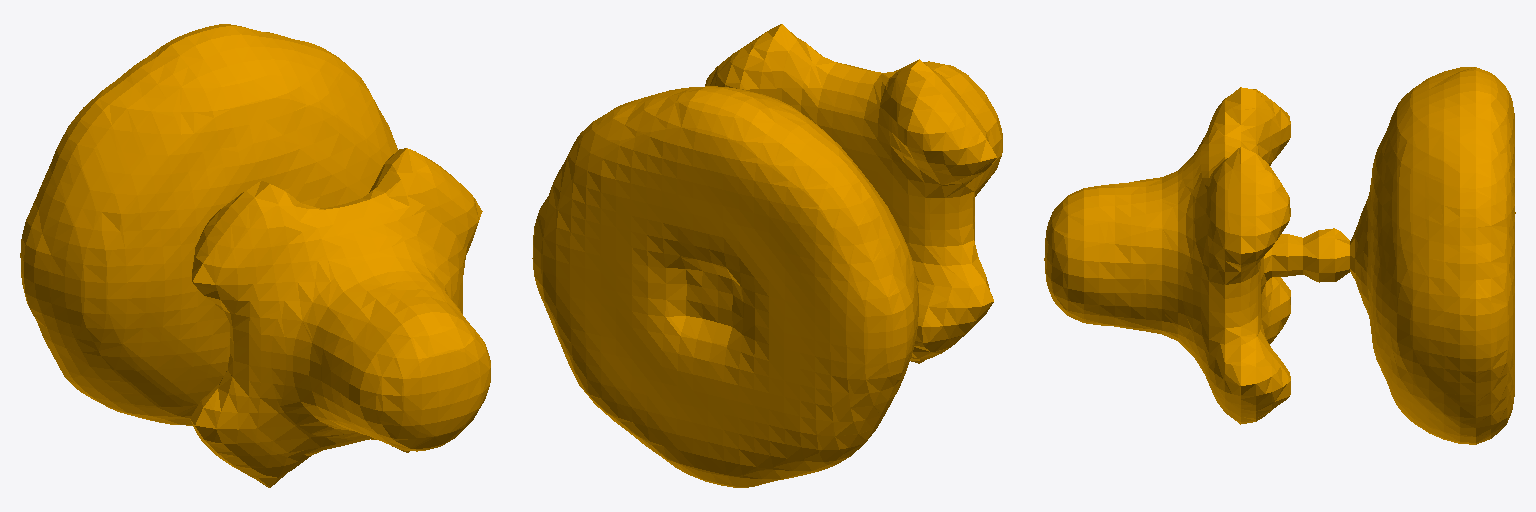
URDF robot description (E4):
<robot name="E4">
  <link name="base">
    <inertial>
      <origin xyz="-0.0 -0.0 -0.0" />
      <mass value="1" />
      <inertia ixx="0.011596575970588118" ixy="4.39905951818518e-06" ixz="-6.234686375848489e-06" iyy="0.007830556510601862" iyz="-1.1024043337091431e-05" izz="0.011606850839198995" />
    </inertial>
    <visual>
      <origin xyz="-0.0 -0.0 -0.0" />
      <geometry>
        <mesh filename="1DatasetGeneration/assets/grasp_objects/E4_visual.obj" />
      </geometry>
    </visual>
    <collision>
      <origin xyz="0.0 0.0 0.0" />
      <geometry>
        <mesh filename="/1DatasetGeneration/assets/grasp_objects/E4_150_100000_true_flood_64_true.obj" />
      </geometry>
    </collision>
  </link>
</robot>

--- Facts derived from the render (not from the file) ---
The picture shows the robot from 3 angles, left to right: view 1: azimuth 30°, elevation 25°; view 2: azimuth 150°, elevation 25°; view 3: azimuth 270°, elevation 25°; orthographic projection.
Robot: E4 — 1 links, 0 joints (none); root link base; default pose: all joints at 0.
Links seen in each view (by area): view 1: base; view 2: base; view 3: base.
Boxes of the visible links, bbox=[...] form: base: bbox=[20, 24, 490, 487]; base: bbox=[532, 24, 1002, 487]; base: bbox=[1044, 67, 1515, 444].
Bounding box of the posed robot: 0.8292 × 1 × 0.8289 m (x, y, z).
Meshes: 1 distinct files referenced, 1 mesh visuals loaded (1 OBJ).